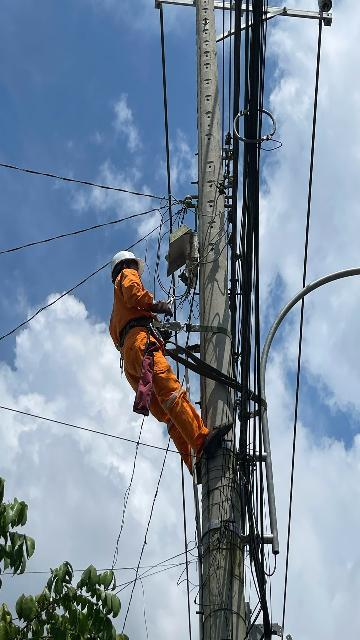gloves: (149, 293, 179, 320)
harness: (99, 312, 180, 346)
helmet: (107, 245, 157, 278)
shoes: (194, 421, 241, 452)
